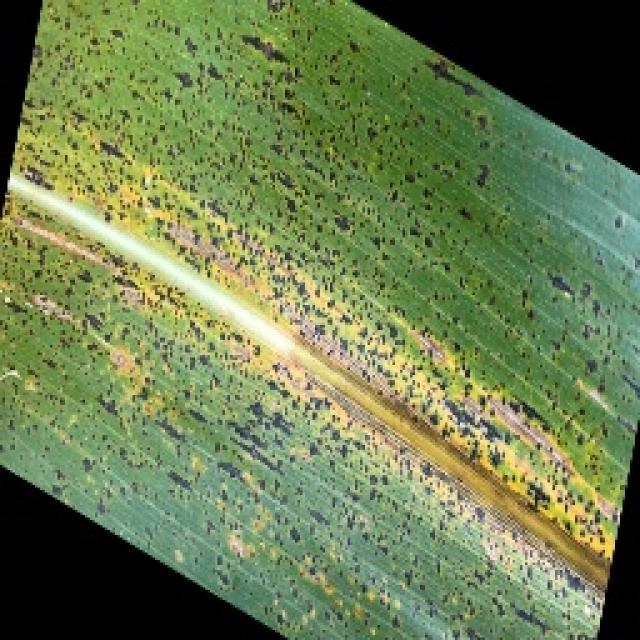Tar_Spot: (118, 125, 533, 444)
